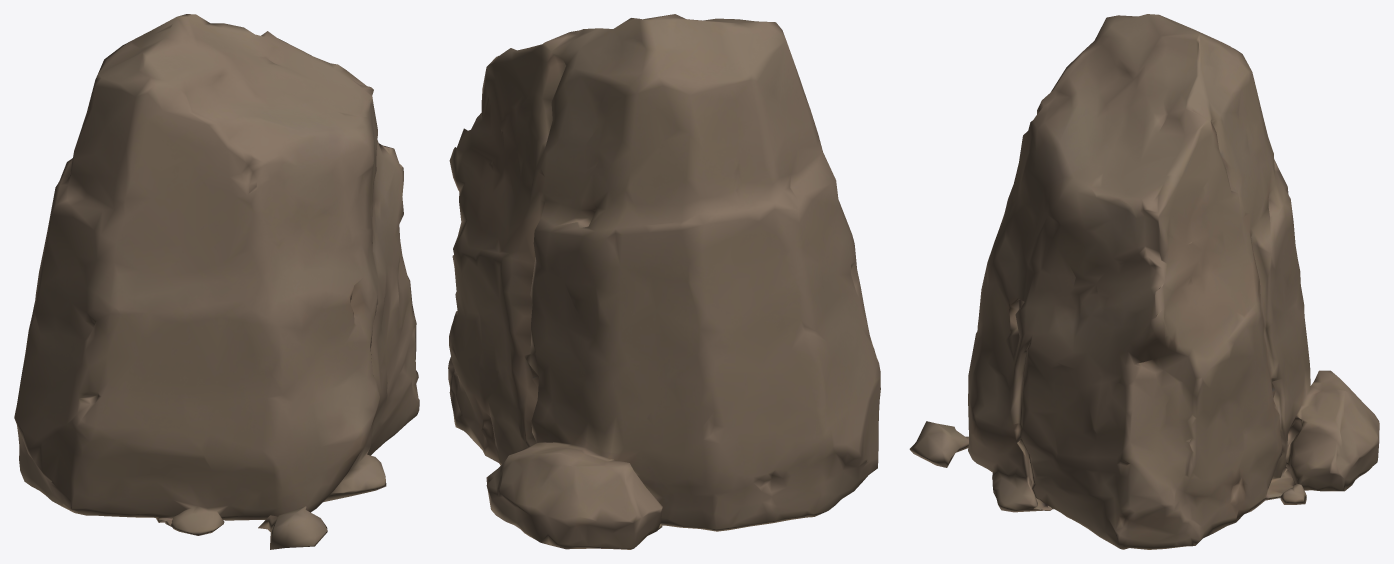
File: rock+3d+model.glb
3 renders of one model, left to right at view 1: azimuth 30°, elevation 25°; view 2: azimuth 150°, elevation 25°; view 3: azimuth 270°, elevation 25°, orthographic. The views are drawn at different scales.
Parts seen in each view (by area): view 1: tripo_node_858ac91c-3d0a-4ee8-9ea5-ca32d0352450; view 2: tripo_node_858ac91c-3d0a-4ee8-9ea5-ca32d0352450; view 3: tripo_node_858ac91c-3d0a-4ee8-9ea5-ca32d0352450.
Boxes of the visible parts, <box> form: tripo_node_858ac91c-3d0a-4ee8-9ea5-ca32d0352450: <box>14,14,419,549</box>; tripo_node_858ac91c-3d0a-4ee8-9ea5-ca32d0352450: <box>448,14,880,549</box>; tripo_node_858ac91c-3d0a-4ee8-9ea5-ca32d0352450: <box>909,14,1379,549</box>.
Bounding box in the file's own units: 0.9238 × 0.994 × 1.
Materials: 1 (1 with a texture image).
